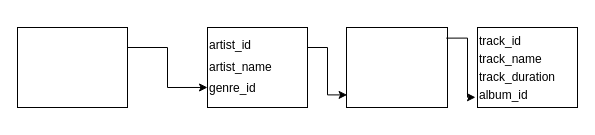
Some shapes in this 595 by 135 pixel diagram are drawn without their labels. Here are the shapes that lost their labels. From the top down, the box of each, then its label:
(16, 26, 128, 108): genre_id genre_name
(346, 26, 448, 108): album_id album_name album_year artist_id
